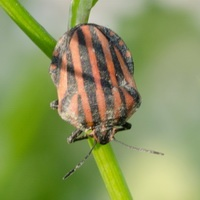insect: (50, 24, 140, 143)
